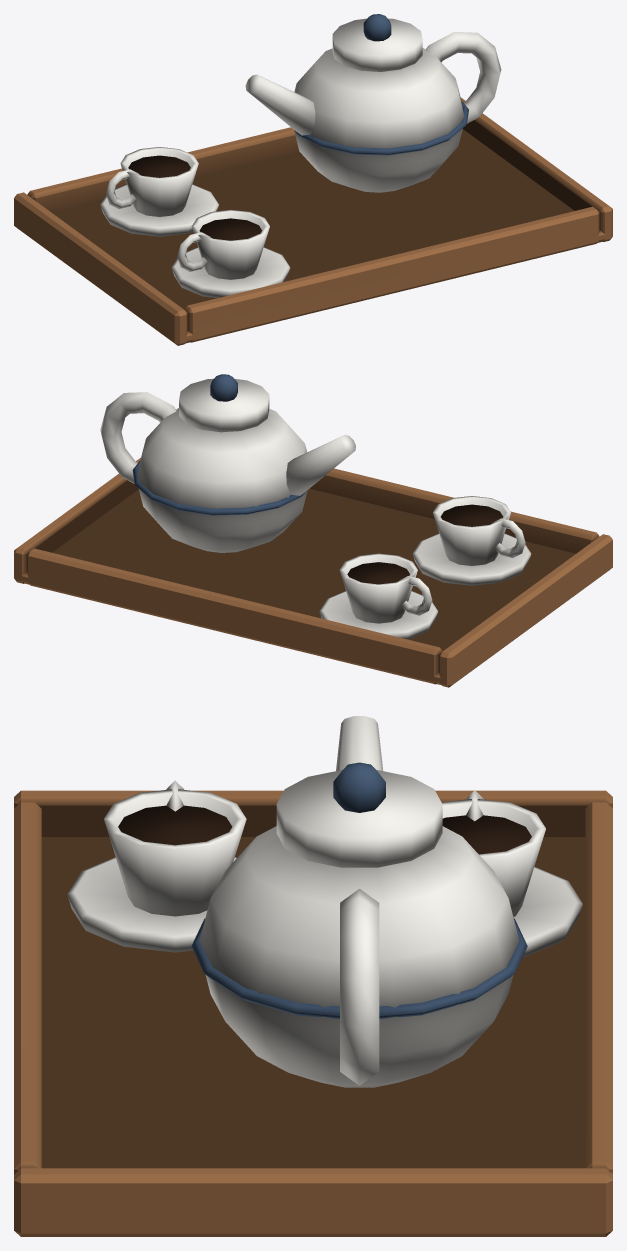
Rendered from teapotSet.glb.
The picture shows the model from 3 angles, top to bottom: view 1: azimuth 30°, elevation 25°; view 2: azimuth 150°, elevation 25°; view 3: azimuth 270°, elevation 25°; orthographic projection. The views are drawn at different scales.
Visible parts, largest first — view 1: teapotSet; view 2: teapotSet; view 3: teapotSet.
Part boxes in pixels (left/top/right/bottom): teapotSet: left=14, top=14, right=612, bottom=345; teapotSet: left=14, top=374, right=612, bottom=687; teapotSet: left=14, top=716, right=612, bottom=1236.
Bounding box in the file's own units: 0.4 × 0.167 × 0.26.
